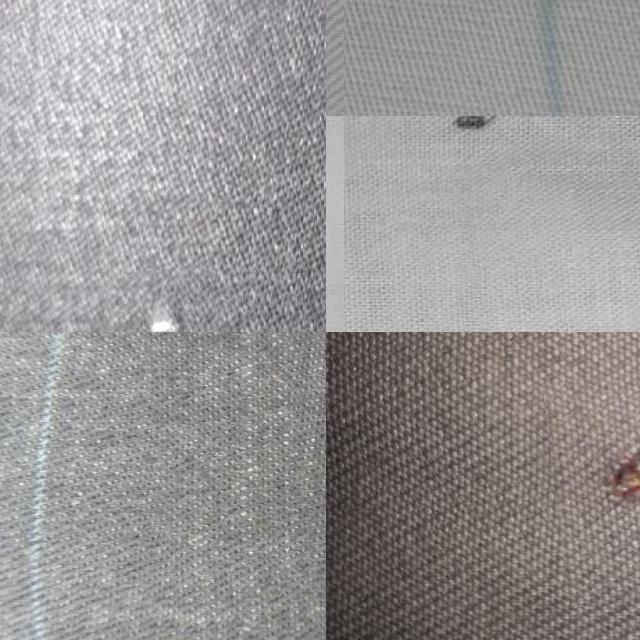Hole: (372, 115, 573, 191)
Thread_other: (137, 332, 317, 640), (108, 264, 224, 332)
seam: (549, 361, 640, 600)
